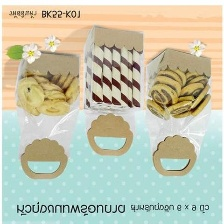snack: (137, 43, 216, 182), (8, 47, 84, 185), (75, 22, 149, 162)
